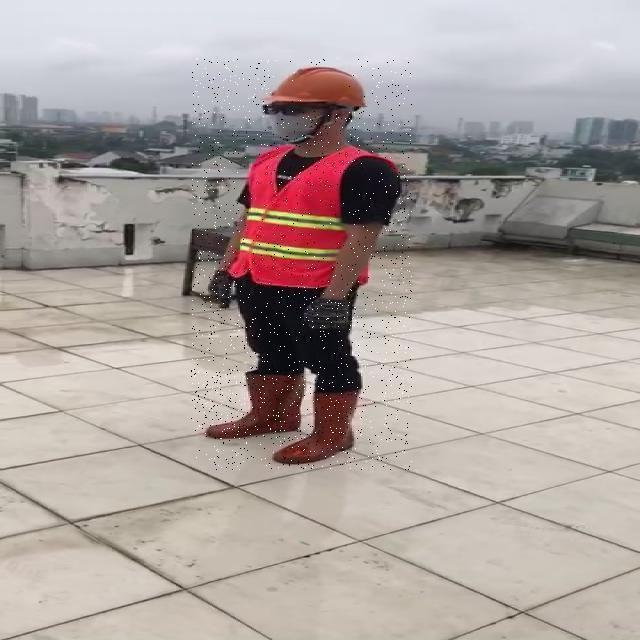gloves: (299, 291, 353, 331), (199, 268, 241, 313)
goggles: (257, 100, 358, 119)
helmet: (269, 65, 370, 111)
safety_vest: (231, 147, 384, 288)
